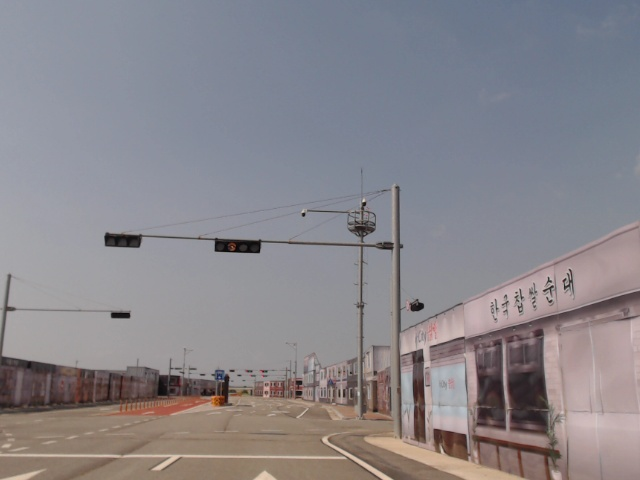orange_4: (214, 238, 260, 255)
